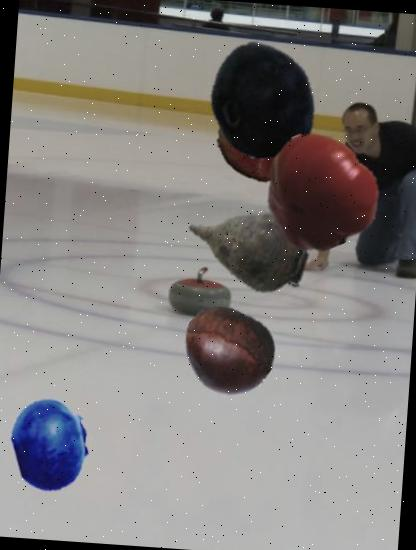Beetroot: (181, 178, 315, 312)
Blueberry: (200, 36, 324, 162)
Chestnut: (176, 300, 277, 400)
Huckleberry: (1, 394, 101, 495)
Peach: (214, 97, 304, 188)
Tomato: (258, 126, 385, 252)
